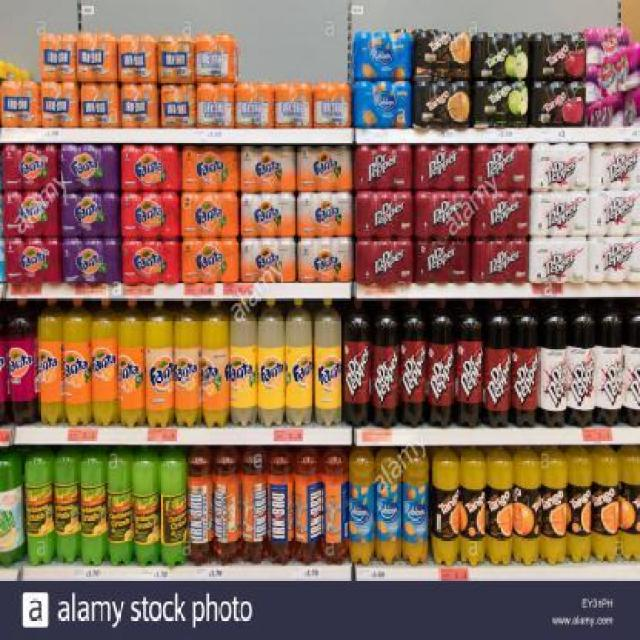Drinks: (5, 300, 38, 426), (538, 297, 568, 428), (398, 298, 428, 428), (144, 299, 174, 427), (567, 297, 596, 428), (483, 297, 512, 428), (201, 299, 230, 427), (427, 300, 456, 428), (597, 296, 625, 427), (455, 297, 483, 428), (343, 298, 371, 428), (230, 299, 258, 427), (313, 299, 341, 426), (511, 297, 538, 428), (372, 298, 399, 428), (64, 300, 91, 428), (91, 300, 118, 428), (118, 299, 145, 427), (258, 299, 285, 427), (174, 299, 201, 426), (285, 299, 312, 426), (38, 300, 64, 426), (58, 143, 120, 191), (120, 144, 182, 191), (472, 142, 532, 190), (119, 238, 181, 284), (239, 146, 298, 194), (532, 143, 590, 191), (59, 192, 119, 238), (119, 192, 179, 238), (353, 144, 413, 190), (0, 142, 58, 189), (412, 144, 471, 190), (355, 192, 414, 238), (529, 191, 588, 237), (355, 238, 414, 284), (181, 192, 239, 238), (61, 237, 119, 283), (181, 237, 239, 283), (414, 191, 472, 237), (472, 191, 530, 237), (528, 239, 588, 283), (182, 144, 238, 191), (3, 191, 59, 237), (5, 238, 61, 284), (414, 239, 471, 284), (470, 237, 528, 281), (239, 194, 298, 237), (296, 193, 355, 236), (297, 146, 352, 192), (241, 237, 296, 283), (297, 238, 354, 282), (587, 235, 639, 283), (587, 191, 640, 237), (589, 142, 640, 189)
